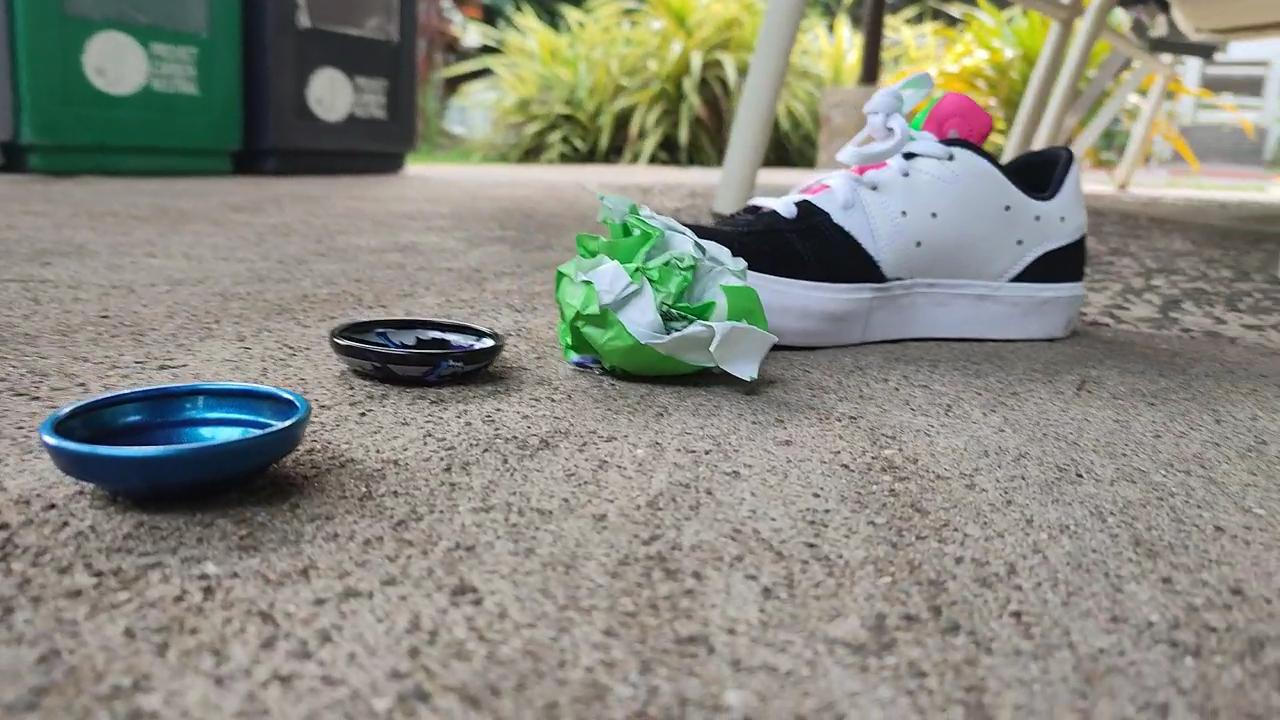Paper: (544, 184, 785, 418)
